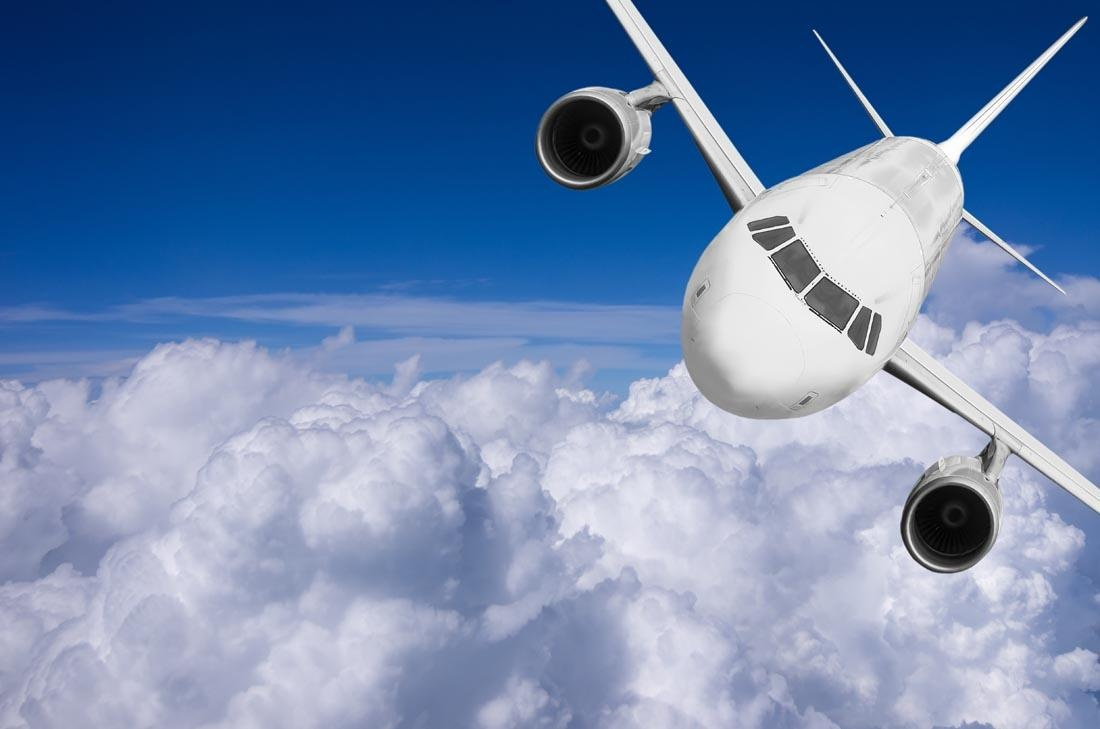airplane: (511, 1, 1100, 580)
